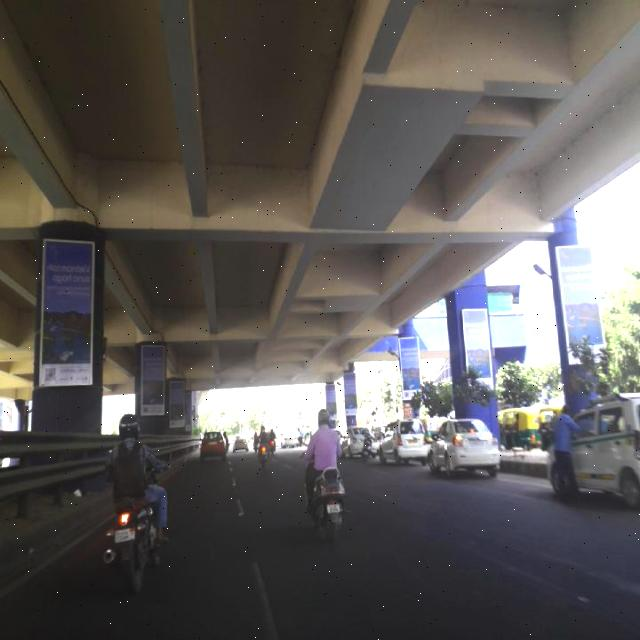D44: (246, 553, 276, 628)
